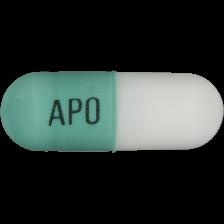42291-811: (0, 0, 224, 224)
